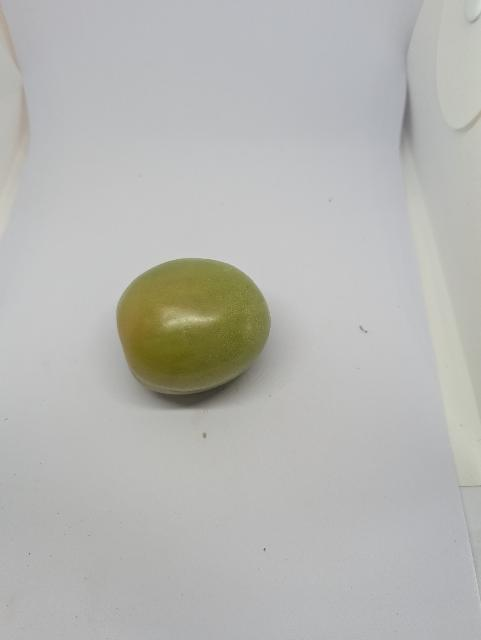green: (107, 245, 279, 407)
